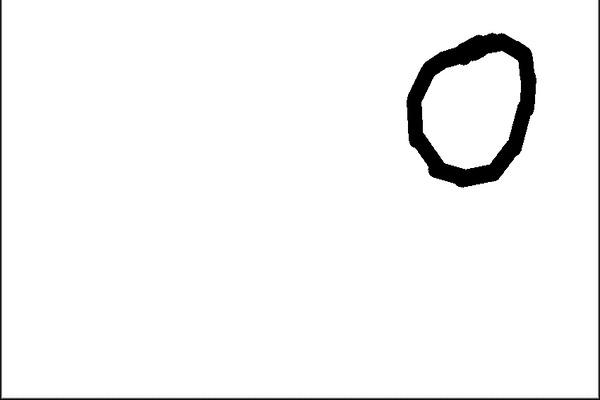O: (386, 21, 549, 197)
